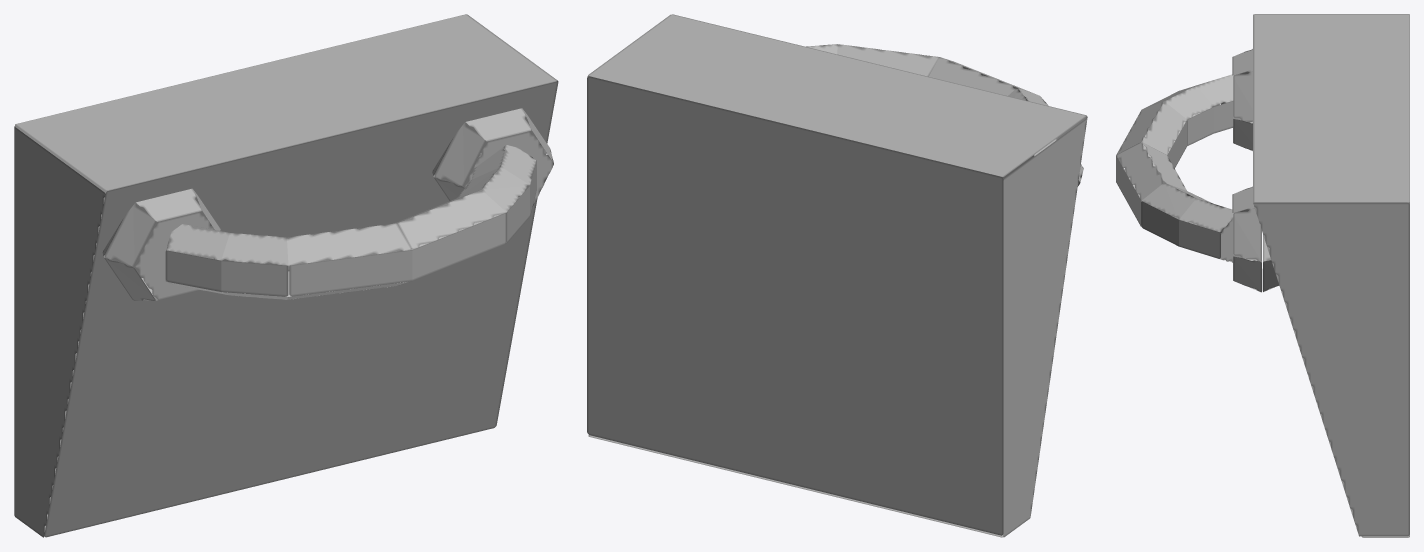
The model's file is pz_phone_rotary_white.obj.
The picture shows the model from 3 angles, left to right: view 1: azimuth 30°, elevation 25°; view 2: azimuth 150°, elevation 25°; view 3: azimuth 270°, elevation 25°; orthographic projection. The views are drawn at different scales.
Visible parts, largest first — view 1: pz_phone_rotary_white_|_simple_sloped_base, pz_phone_rotary_white_|_EDITABLE_low-poly_curved_handset, pz_phone_rotary_white_|_low-poly_receiver_end_0, pz_phone_rotary_white_|_low-poly_receiver_end_1; view 2: pz_phone_rotary_white_|_simple_sloped_base, pz_phone_rotary_white_|_EDITABLE_low-poly_curved_handset; view 3: pz_phone_rotary_white_|_simple_sloped_base, pz_phone_rotary_white_|_EDITABLE_low-poly_curved_handset, pz_phone_rotary_white_|_low-poly_receiver_end_1, pz_phone_rotary_white_|_low-poly_receiver_end_0.
Boxes of the visible parts, x1=… form: pz_phone_rotary_white_|_simple_sloped_base: x1=14, y1=14, x2=558, y2=537; pz_phone_rotary_white_|_EDITABLE_low-poly_curved_handset: x1=165, y1=145, x2=536, y2=299; pz_phone_rotary_white_|_low-poly_receiver_end_0: x1=102, y1=188, x2=220, y2=300; pz_phone_rotary_white_|_low-poly_receiver_end_1: x1=432, y1=108, x2=553, y2=206; pz_phone_rotary_white_|_simple_sloped_base: x1=587, y1=14, x2=1087, y2=537; pz_phone_rotary_white_|_EDITABLE_low-poly_curved_handset: x1=806, y1=44, x2=1048, y2=105; pz_phone_rotary_white_|_simple_sloped_base: x1=1253, y1=14, x2=1409, y2=537; pz_phone_rotary_white_|_EDITABLE_low-poly_curved_handset: x1=1116, y1=74, x2=1250, y2=262; pz_phone_rotary_white_|_low-poly_receiver_end_1: x1=1232, y1=186, x2=1279, y2=292; pz_phone_rotary_white_|_low-poly_receiver_end_0: x1=1232, y1=49, x2=1252, y2=151.
Bounding box in the file's own units: 0.302 × 0.25 × 0.1986.
1 material, 1 textured.
